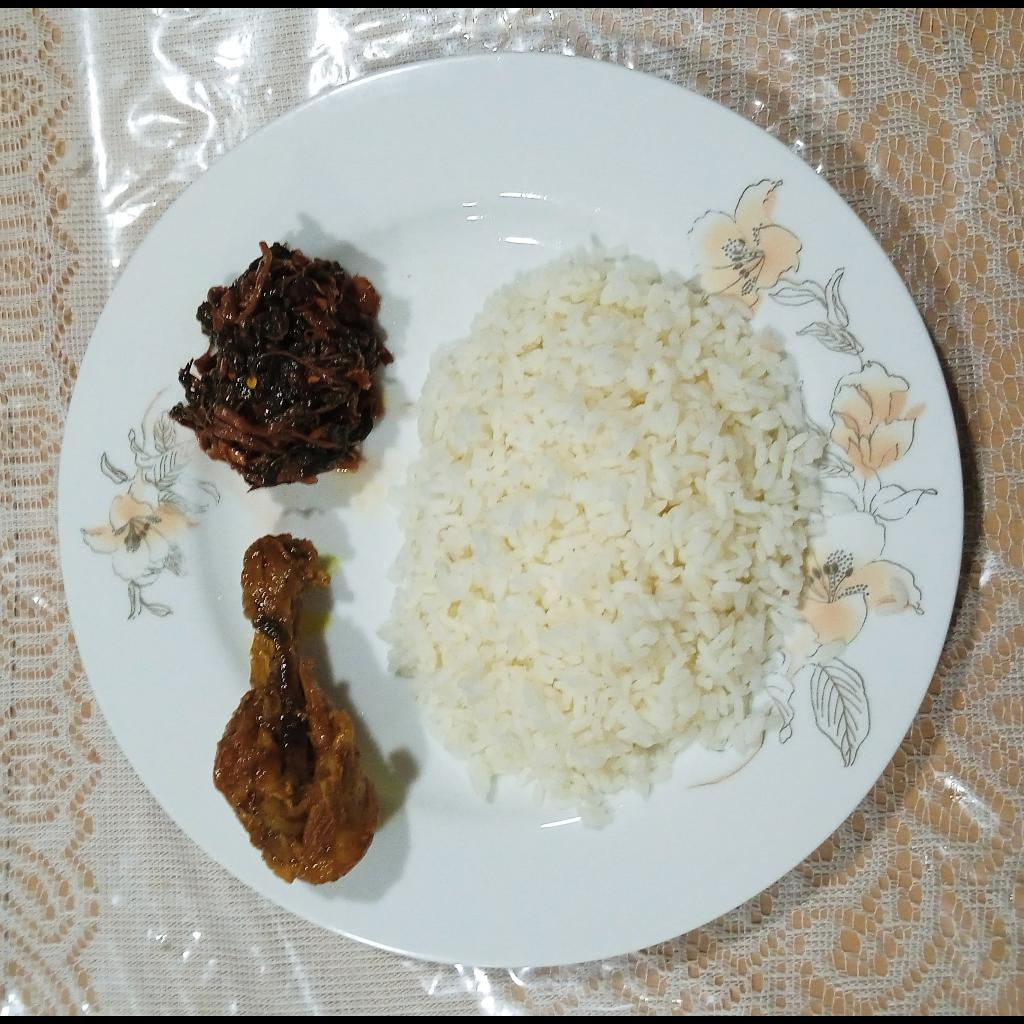chicken: (210, 535, 379, 886)
rice: (381, 244, 825, 828)
shak: (163, 240, 394, 490)
